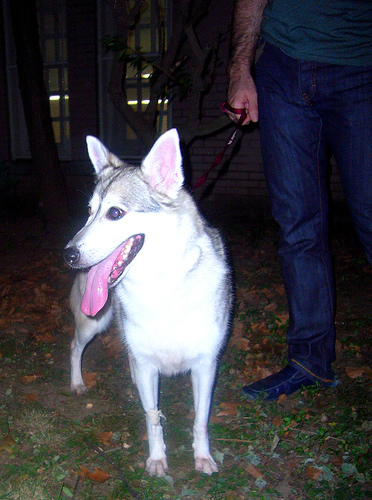dog: (55, 129, 236, 477)
